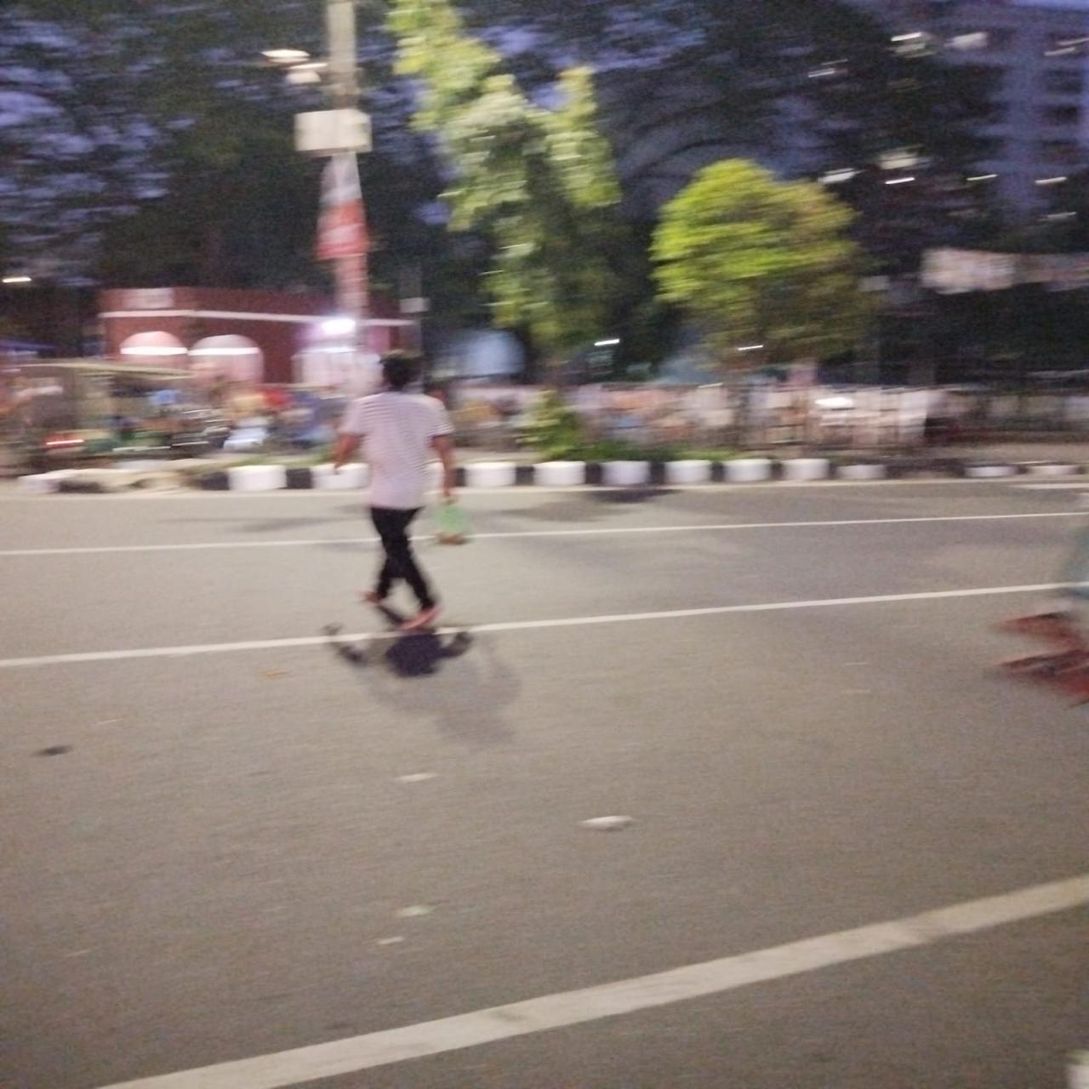person: (327, 348, 466, 636)
